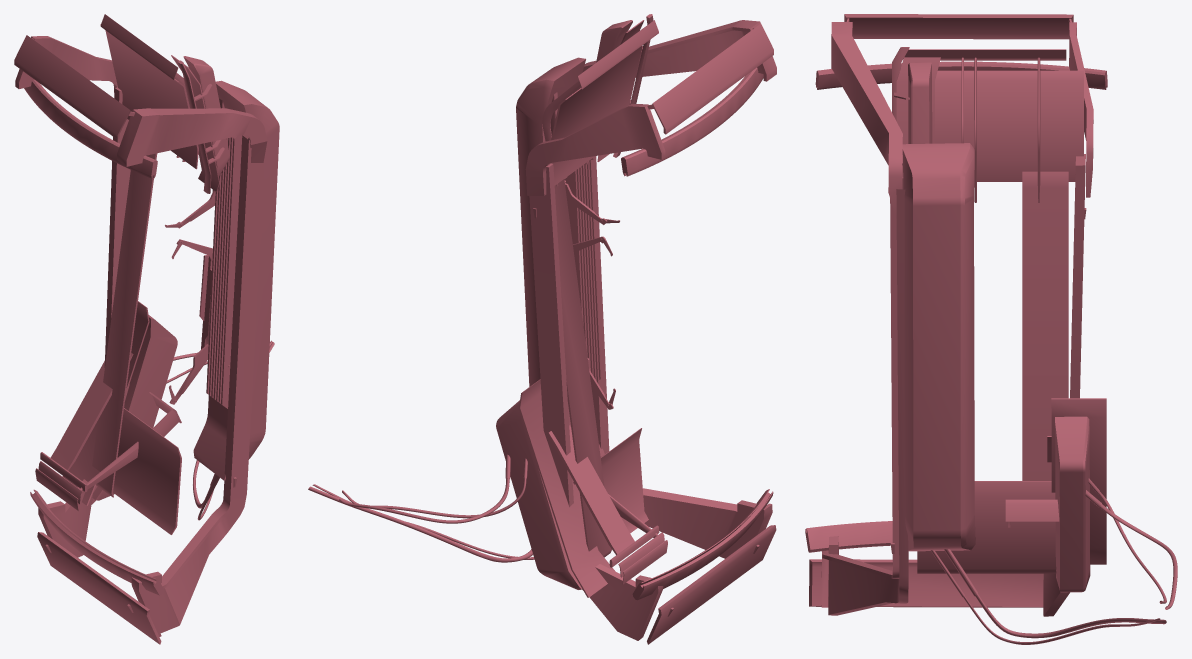
Rendered from breen_screen.fbx.
The picture shows the model from 3 angles, left to right: view 1: azimuth 30°, elevation 25°; view 2: azimuth 150°, elevation 25°; view 3: azimuth 270°, elevation 25°; orthographic projection. The views are drawn at different scales.
Visible parts, largest first — view 1: breen_screen:breen_screen; view 2: breen_screen:breen_screen; view 3: breen_screen:breen_screen.
Part boxes in pixels (x1,y1,x2,y2): breen_screen:breen_screen: (14, 14, 279, 644); breen_screen:breen_screen: (308, 14, 776, 644); breen_screen:breen_screen: (805, 14, 1177, 644).
Bounding box in the file's own units: 21.68 × 37.06 × 21.
